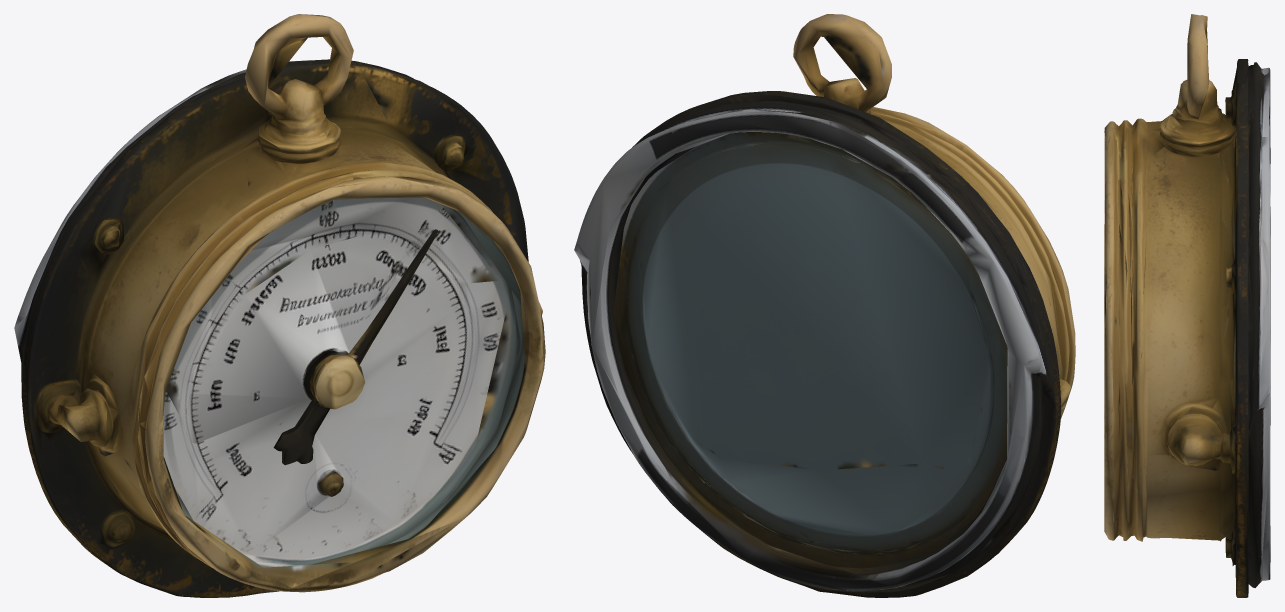
The model's file is lhi_barometer.glb.
3 views of the same model, side by side, from view 1: azimuth 30°, elevation 25°; view 2: azimuth 150°, elevation 25°; view 3: azimuth 270°, elevation 25° (orthographic). The views are drawn at different scales.
Visible parts, largest first — view 1: material; view 2: material; view 3: material.
Part boxes in pixels (bbox=[...]): material: bbox=[14, 14, 545, 597]; material: bbox=[574, 14, 1075, 597]; material: bbox=[1104, 14, 1270, 597].
Bounding box in the file's own units: 1.05 × 1.18 × 0.3212.
Materials: 1 (1 with a texture image).
